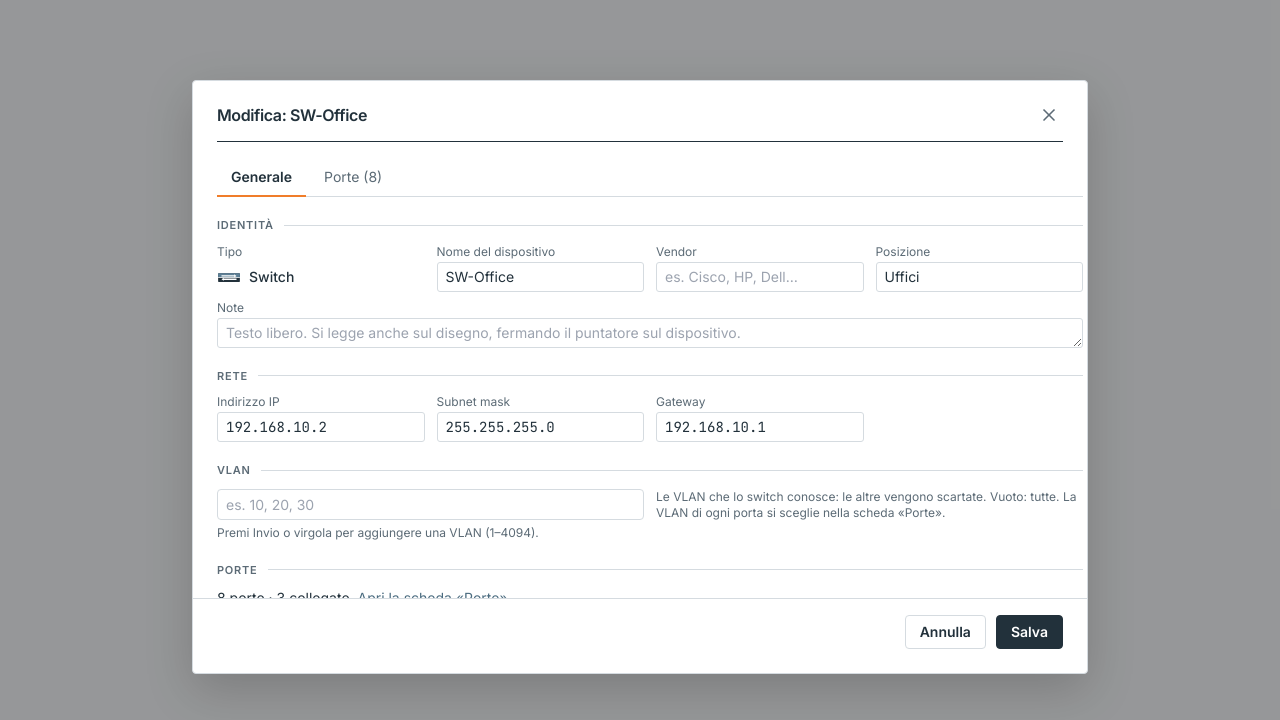
the guide — the window of a device and its note › a switch has the tab and the field it names, the other devices their cards
The image size is (1280, 720).
Click the button "Porte (8)" at (353, 178), box [310,158,396,197]
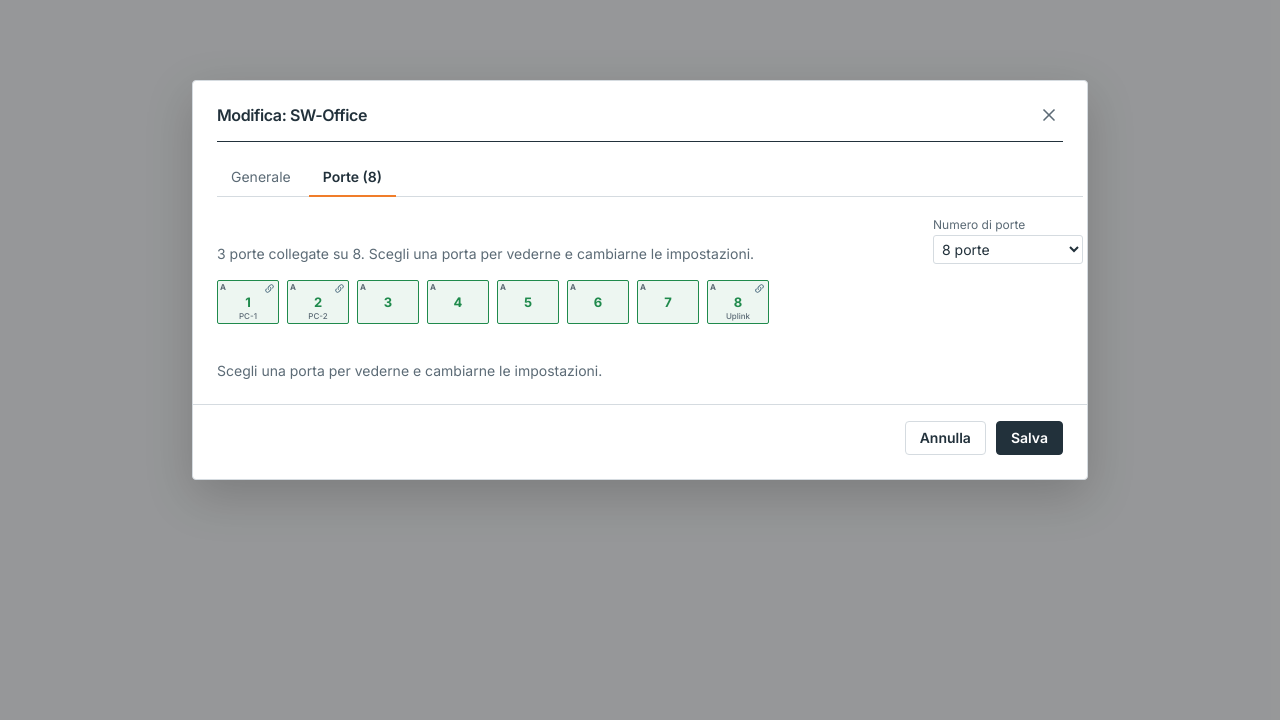
Expected: the dropdown labelled "Numero di porte" is shown, [933,235,1083,264]
